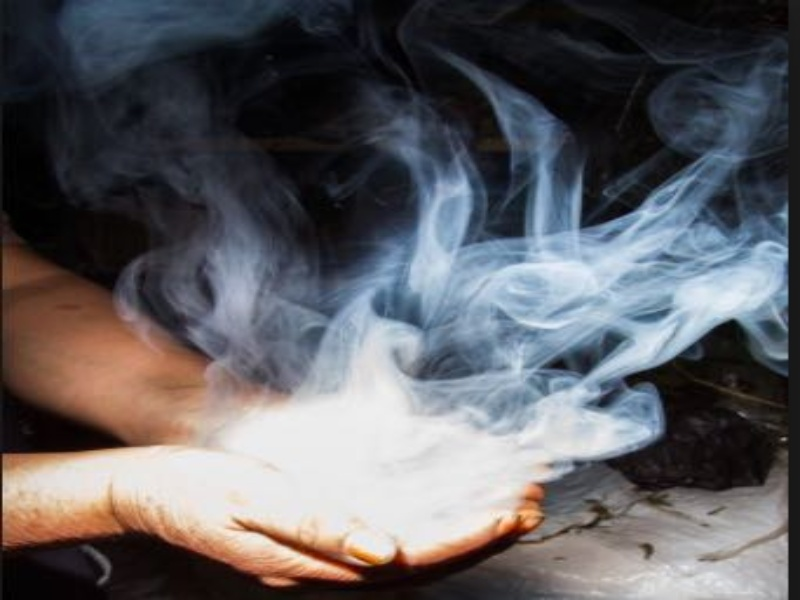smoke: (99, 1, 615, 460)
